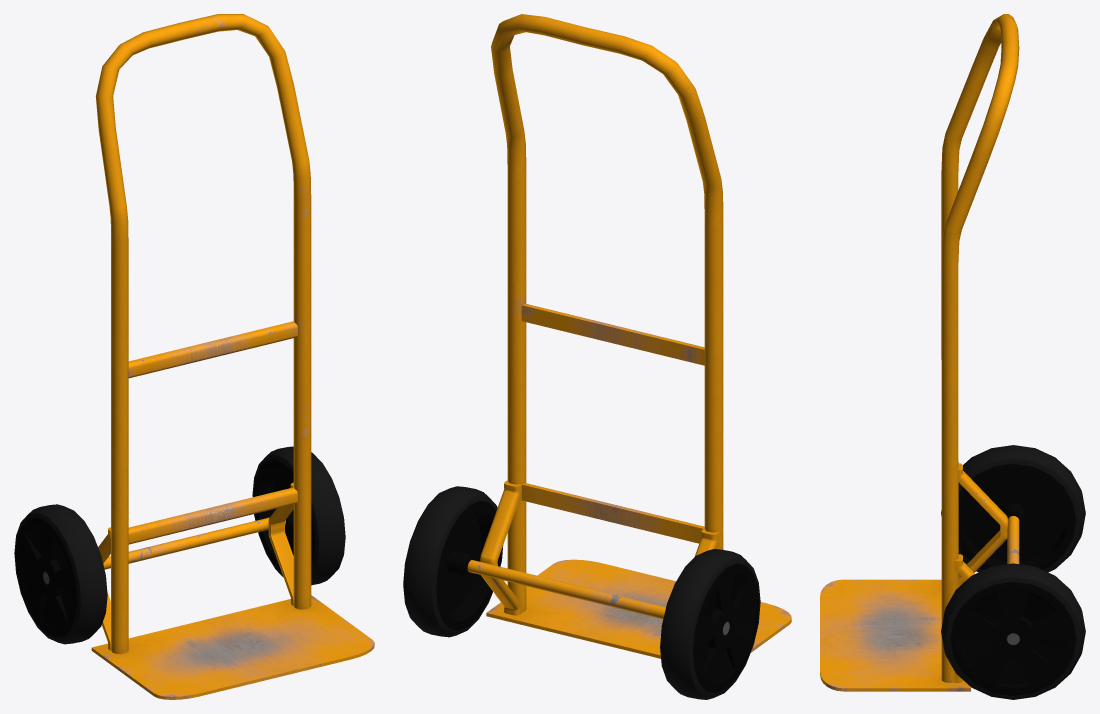
Rendered from dolly.fbx.
3 views of the same model, side by side, from view 1: azimuth 30°, elevation 25°; view 2: azimuth 150°, elevation 25°; view 3: azimuth 270°, elevation 25° (orthographic). The views are drawn at different scales.
Parts seen in each view (by area): view 1: Dolly; view 2: Dolly; view 3: Dolly.
Part boxes in pixels (x1=…): Dolly: x1=14, y1=14, x2=374, y2=699; Dolly: x1=403, y1=14, x2=791, y2=699; Dolly: x1=820, y1=14, x2=1085, y2=699.
Bounding box in the file's own units: 56.72 × 119 × 47.87.
